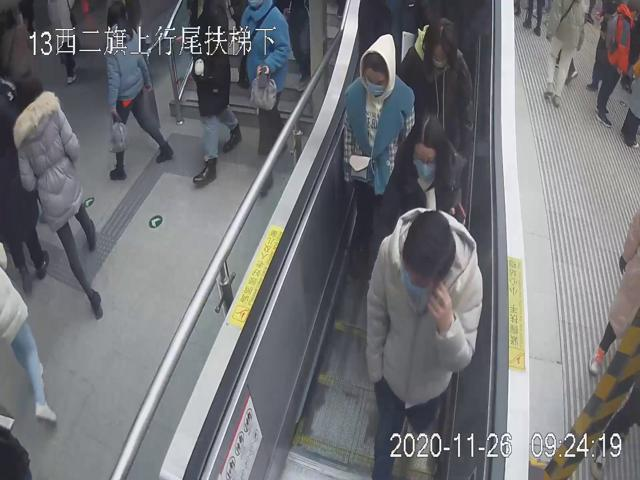person: (365, 204, 484, 480), (12, 64, 103, 322), (343, 28, 414, 238), (370, 110, 466, 262), (396, 14, 474, 144)
